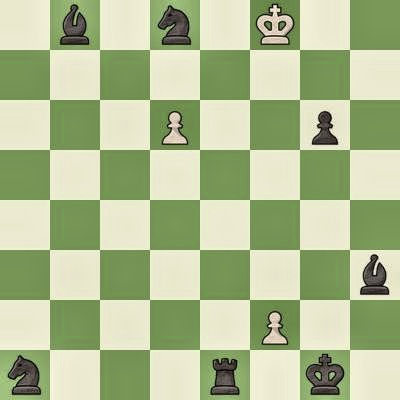black-bishop: (50, 0, 100, 50), (350, 250, 400, 300)
black-king: (300, 350, 350, 400)
black-knight: (150, 0, 200, 50), (0, 350, 50, 400)
black-pawn: (300, 100, 350, 150)
black-rook: (200, 350, 250, 400)
white-king: (250, 0, 300, 50)
white-pawn: (150, 100, 200, 150), (250, 300, 300, 350)
